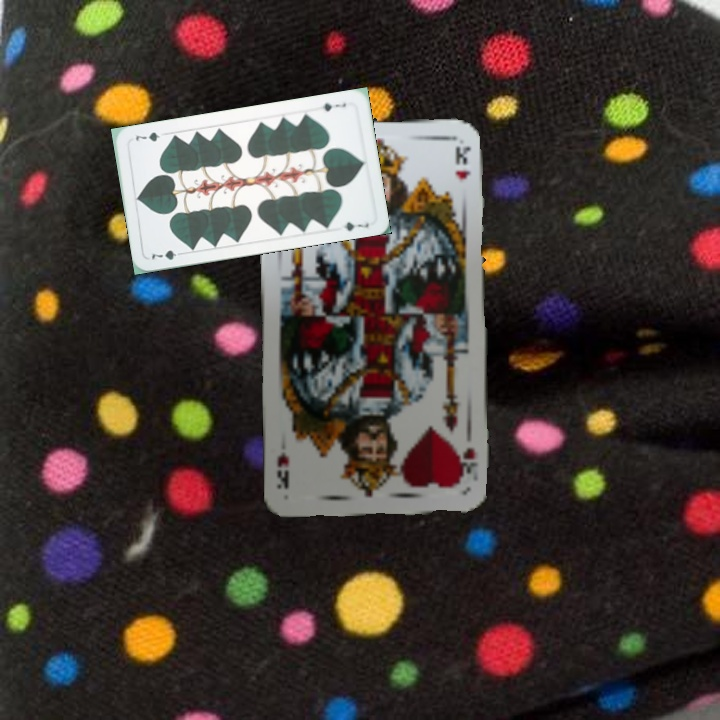G7: (148, 246, 187, 263), (313, 99, 349, 114)
HK: (456, 444, 481, 488)
